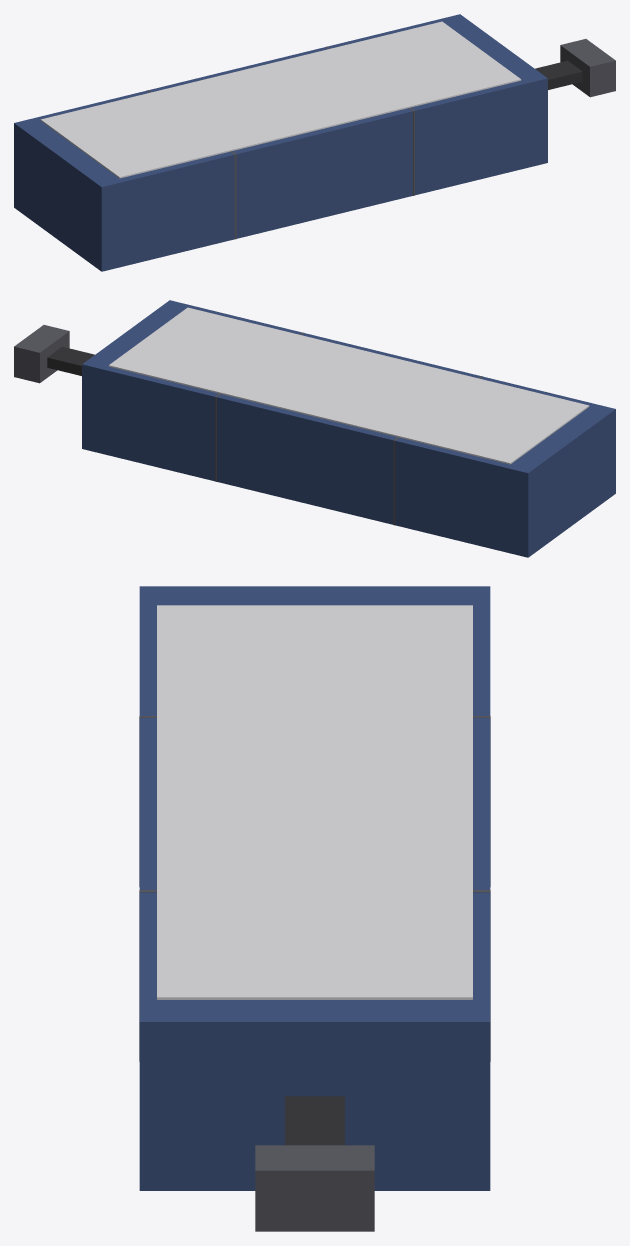
The model's file is lipo-2s-5200-50c.glb.
3 renders of one model, top to bottom at view 1: azimuth 30°, elevation 25°; view 2: azimuth 150°, elevation 25°; view 3: azimuth 270°, elevation 25°, orthographic. The views are drawn at different scales.
Visible parts, largest first — view 1: lipo-2s-5200-50c_shell, lipo-2s-5200-50c_label, lipo-2s-5200-50c_connector, lipo-2s-5200-50c_leads; view 2: lipo-2s-5200-50c_shell, lipo-2s-5200-50c_label, lipo-2s-5200-50c_connector, lipo-2s-5200-50c_leads; view 3: lipo-2s-5200-50c_label, lipo-2s-5200-50c_shell, lipo-2s-5200-50c_connector, lipo-2s-5200-50c_leads.
Part boxes in pixels (bbox=[...]): lipo-2s-5200-50c_shell: bbox=[14, 14, 547, 271]; lipo-2s-5200-50c_label: bbox=[40, 21, 521, 178]; lipo-2s-5200-50c_connector: bbox=[560, 39, 615, 97]; lipo-2s-5200-50c_leads: bbox=[535, 60, 582, 89]; lipo-2s-5200-50c_shell: bbox=[82, 300, 615, 557]; lipo-2s-5200-50c_label: bbox=[108, 307, 589, 464]; lipo-2s-5200-50c_connector: bbox=[14, 325, 69, 383]; lipo-2s-5200-50c_leads: bbox=[47, 346, 94, 375]; lipo-2s-5200-50c_label: bbox=[157, 605, 472, 999]; lipo-2s-5200-50c_shell: bbox=[139, 586, 490, 1190]; lipo-2s-5200-50c_connector: bbox=[255, 1145, 374, 1231]; lipo-2s-5200-50c_leads: bbox=[285, 1096, 344, 1145].
Bounding box in the file's own units: 0.168 × 0.0254 × 0.0471.
